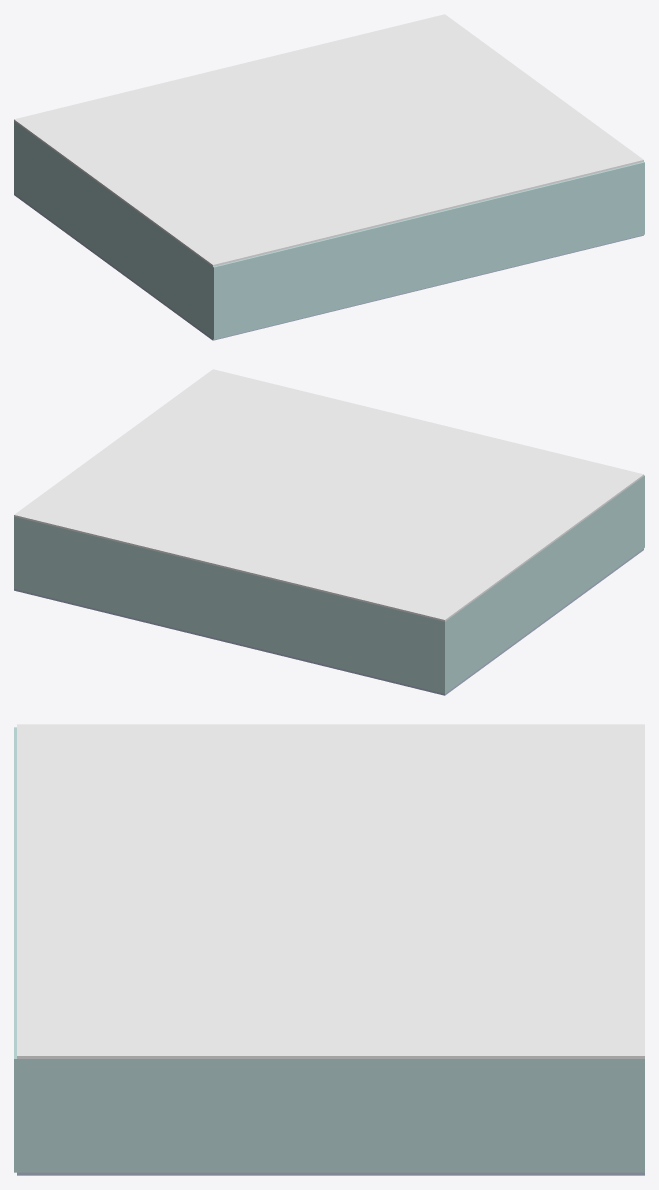
File: Crater.glb
3 views of the same model, one above another, from view 1: azimuth 30°, elevation 25°; view 2: azimuth 150°, elevation 25°; view 3: azimuth 270°, elevation 25° (orthographic). The views are drawn at different scales.
Visible parts, largest first — view 1: Cube001, CombinedMesh, Cube006; view 2: Cube001, CombinedMesh, Cube006; view 3: Cube001, CombinedMesh, Cube006.
Part boxes in pixels (bbox=[...]): Cube001: bbox=[14, 14, 643, 266]; CombinedMesh: bbox=[14, 121, 644, 339]; Cube006: bbox=[14, 193, 643, 340]; Cube001: bbox=[14, 369, 643, 621]; CombinedMesh: bbox=[14, 475, 644, 693]; Cube006: bbox=[14, 548, 643, 695]; Cube001: bbox=[17, 724, 644, 1058]; CombinedMesh: bbox=[14, 727, 644, 1172]; Cube006: bbox=[17, 1172, 644, 1175].
Size of what is drawn, in the model's own units: 25 by 4.2 by 20.1.
